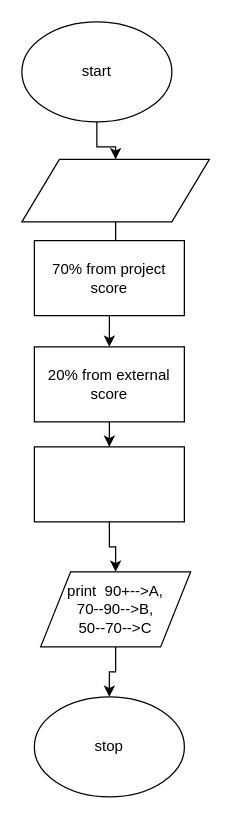
Image size: 231x819. Some labels were removed from this diagram. The box of each missing label's shape, as (x1, y1, x2, y2) in pixels:
10%from internals score: (33, 446, 184, 522)
accept project ,external and internal scores: (21, 158, 209, 222)
